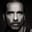face: (2, 1, 25, 30)
